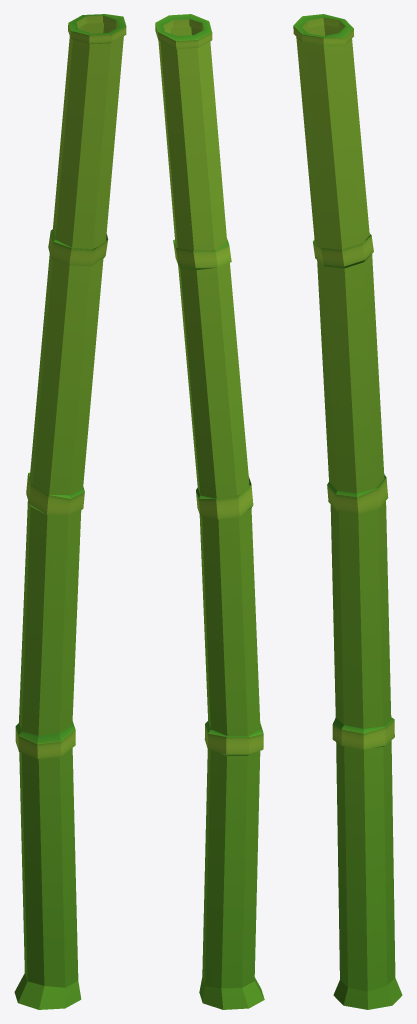
The model's file is BambooMemory.fbx.
The picture shows the model from 3 angles, left to right: view 1: azimuth 30°, elevation 25°; view 2: azimuth 210°, elevation 25°; view 3: azimuth 270°, elevation 25°; orthographic projection. The views are drawn at different scales.
Visible parts, largest first — view 1: Bamboo.003__0.001; view 2: Bamboo.003__0.001; view 3: Bamboo.003__0.001.
Part boxes in pixels (x1=…): Bamboo.003__0.001: x1=14, y1=14, x2=126, y2=1009; Bamboo.003__0.001: x1=155, y1=14, x2=264, y2=1009; Bamboo.003__0.001: x1=293, y1=14, x2=402, y2=1009.
Size of the model in its own units: 46.28 by 512 by 51.53.
